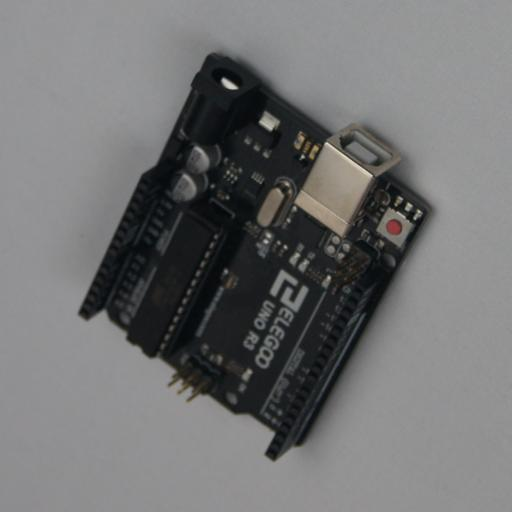Arduino Uno -Black-: (78, 52, 432, 462)
